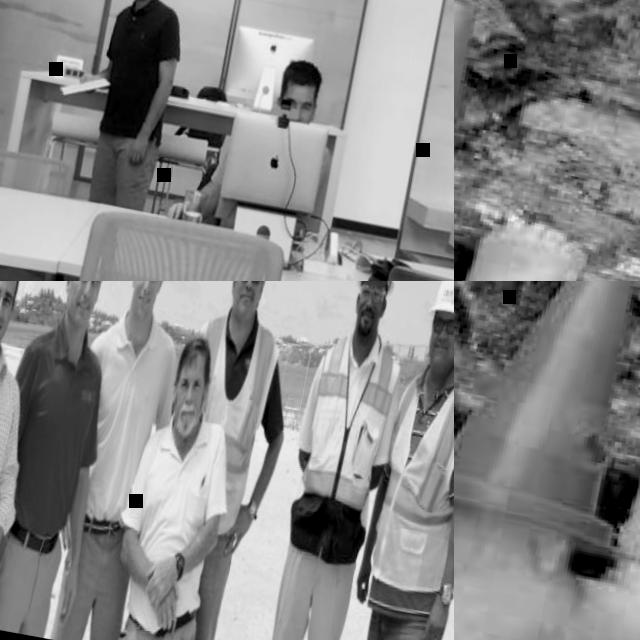Hardhat: (429, 281, 454, 314)
NO-Hardhat: (278, 54, 326, 99), (178, 335, 214, 374)
NO-Mask: (63, 298, 95, 335), (426, 336, 454, 376), (231, 289, 262, 325), (350, 306, 381, 337), (131, 288, 156, 321), (0, 315, 8, 349)
NO-Safety Vest: (117, 413, 230, 638), (2, 331, 105, 543), (72, 322, 171, 529), (92, 0, 188, 147)
Person: (140, 281, 323, 640), (38, 281, 209, 640), (256, 281, 426, 640), (0, 281, 139, 640), (99, 324, 255, 640), (338, 281, 454, 640), (164, 38, 327, 241), (60, 0, 198, 209), (0, 281, 61, 628)
Safety Cone: (454, 281, 640, 568), (454, 0, 546, 281)
Safety Vest: (169, 309, 285, 534), (290, 328, 404, 543), (366, 362, 454, 598)
